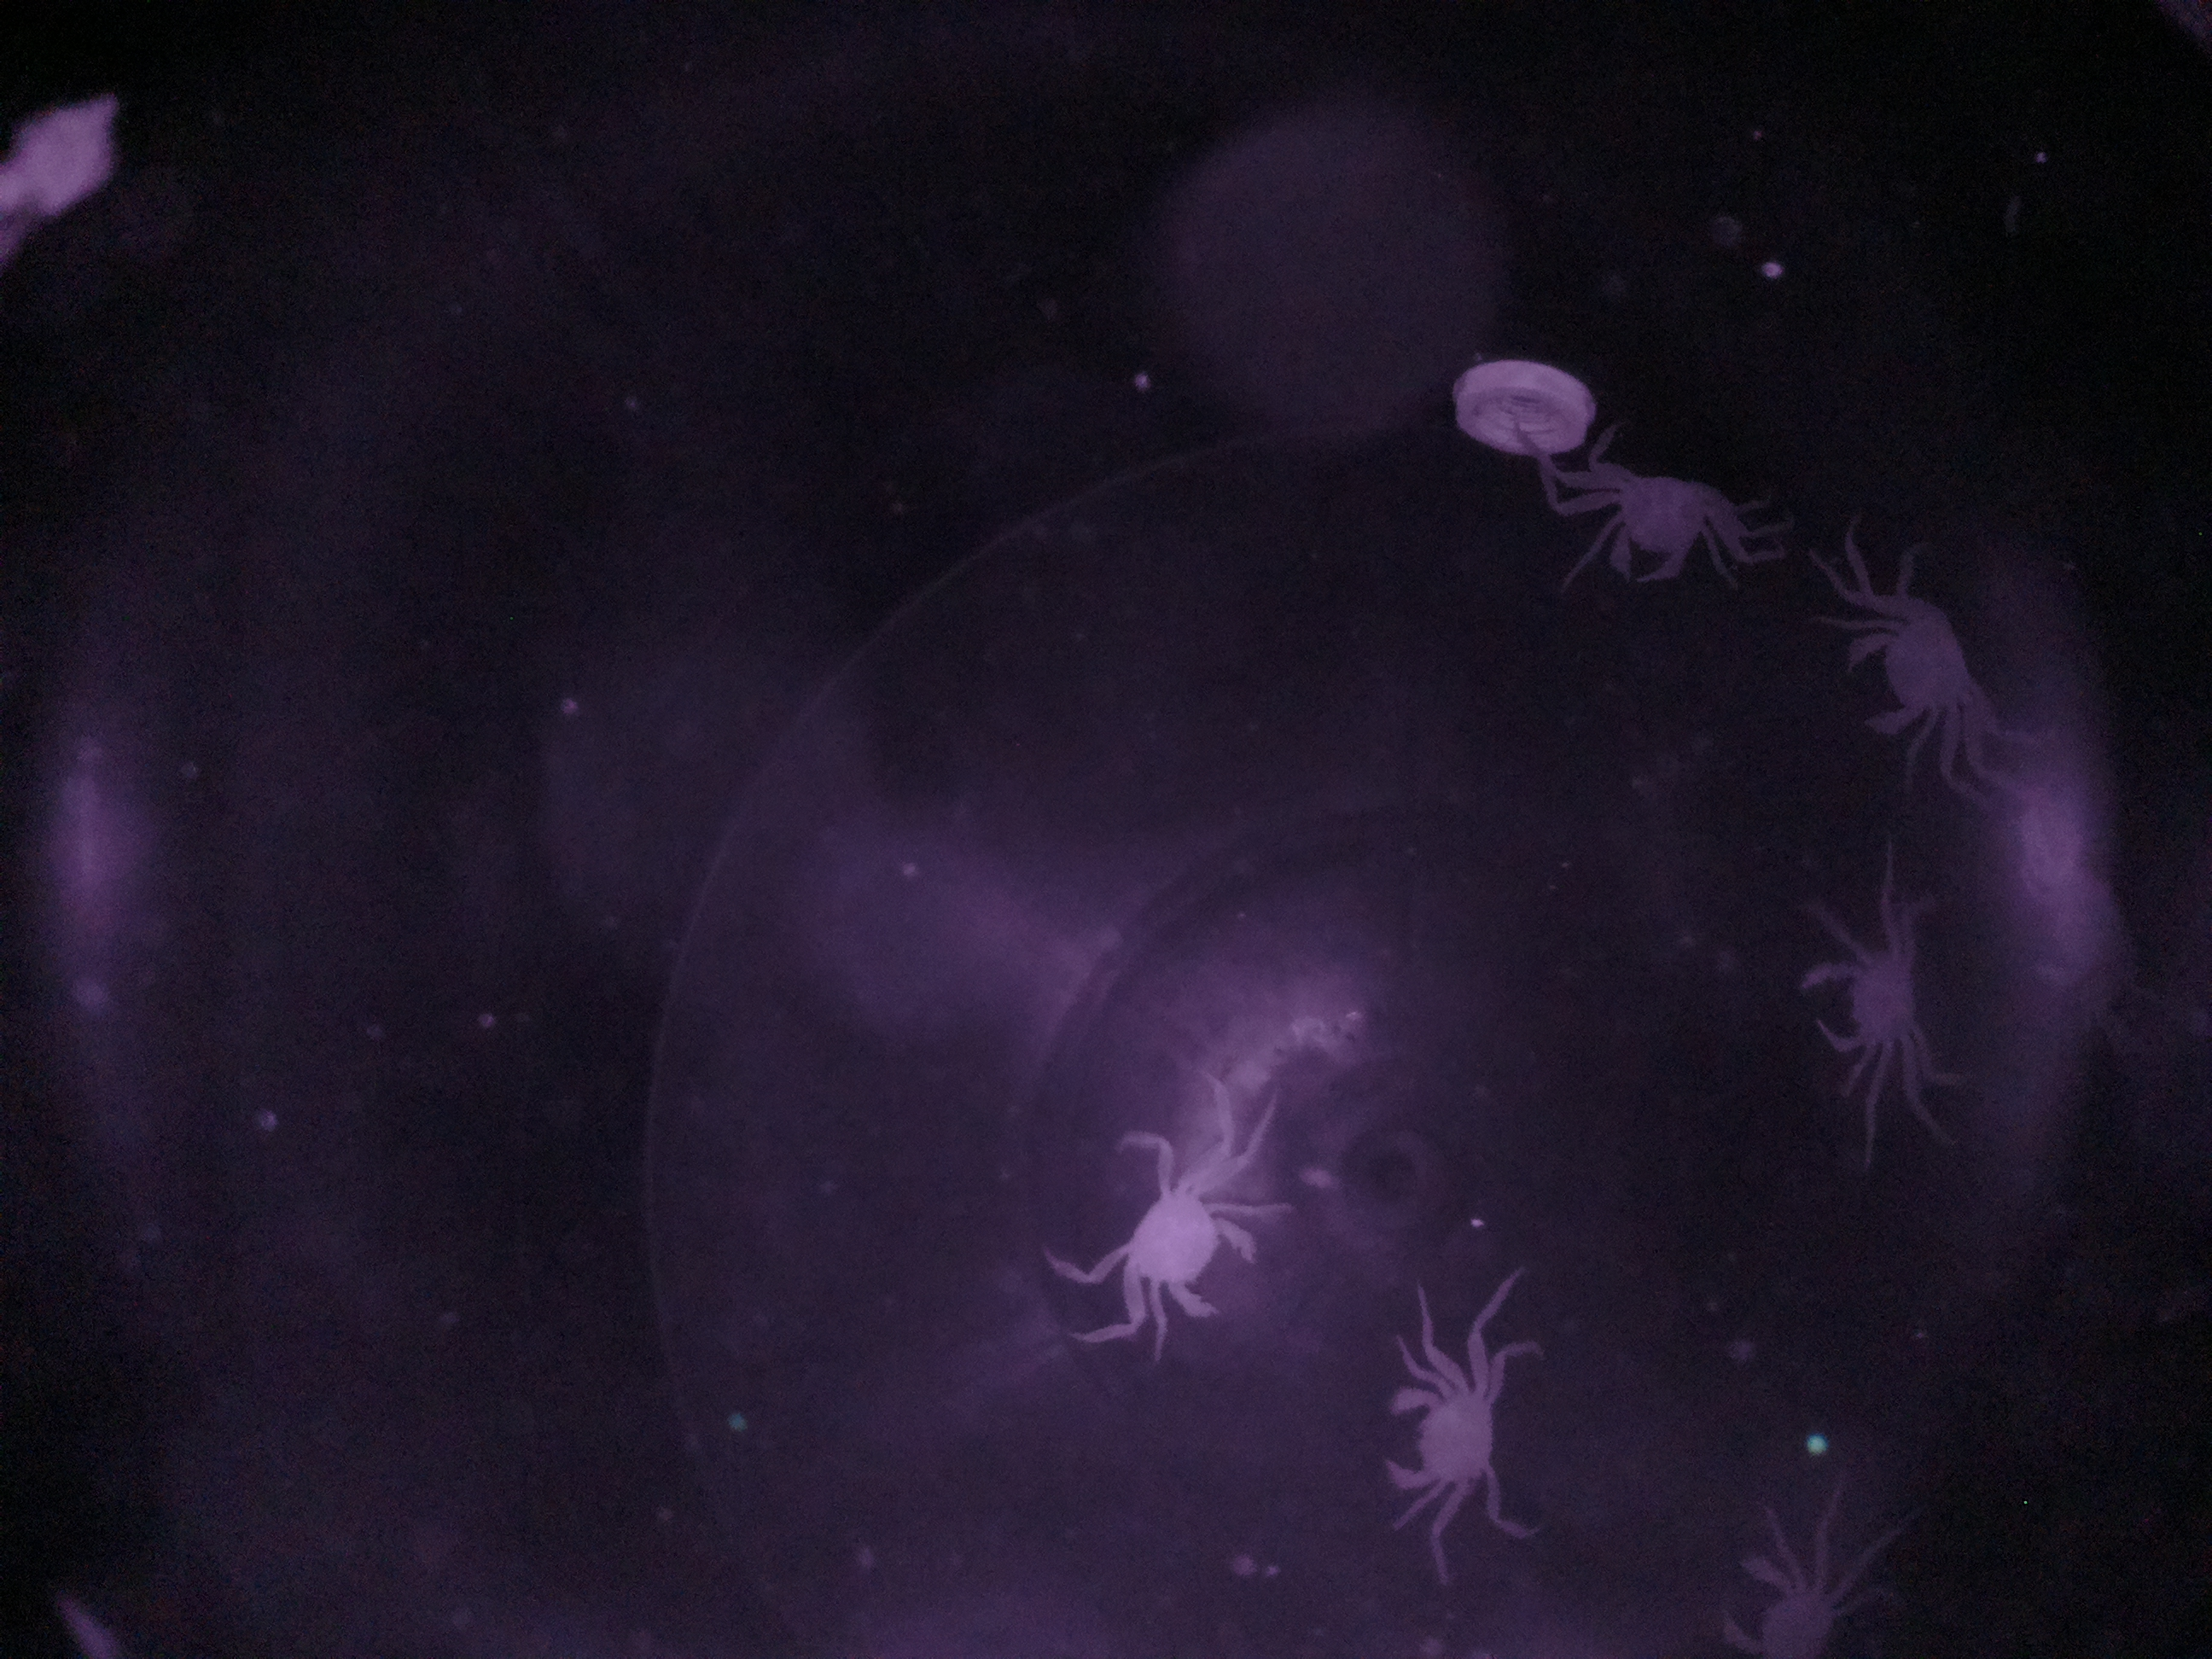Crab: (1071, 1110, 1268, 1345), (1794, 884, 1970, 1121), (1376, 1295, 1538, 1551), (1827, 582, 2019, 765), (1702, 1520, 1858, 1659), (1583, 451, 1724, 603)
